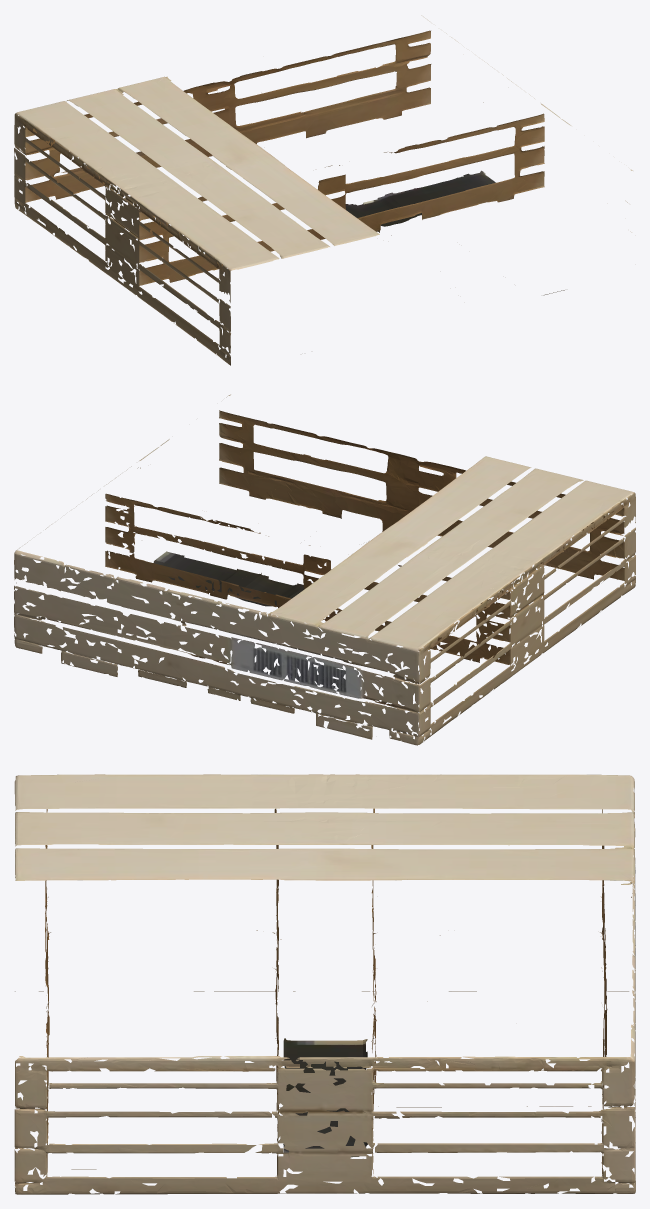
3 renders of one model, top to bottom at view 1: azimuth 30°, elevation 25°; view 2: azimuth 150°, elevation 25°; view 3: azimuth 270°, elevation 25°, orthographic. The views are drawn at different scales.
Visible parts, largest first — view 1: geometry_0; view 2: geometry_0; view 3: geometry_0.
Part boxes in pixels (x1,y1,x2,y2): geometry_0: [14, 15, 632, 365]; geometry_0: [14, 394, 635, 745]; geometry_0: [14, 774, 635, 1194].
Size of the model in its own units: 1 by 0.2417 by 0.9254.
1 material, 1 textured.
